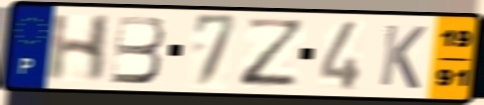4: (317, 18, 364, 92)
7: (188, 12, 239, 92)
B: (108, 14, 167, 86)
H: (43, 13, 116, 83)
K: (376, 22, 429, 92)
Z: (237, 15, 310, 89)
